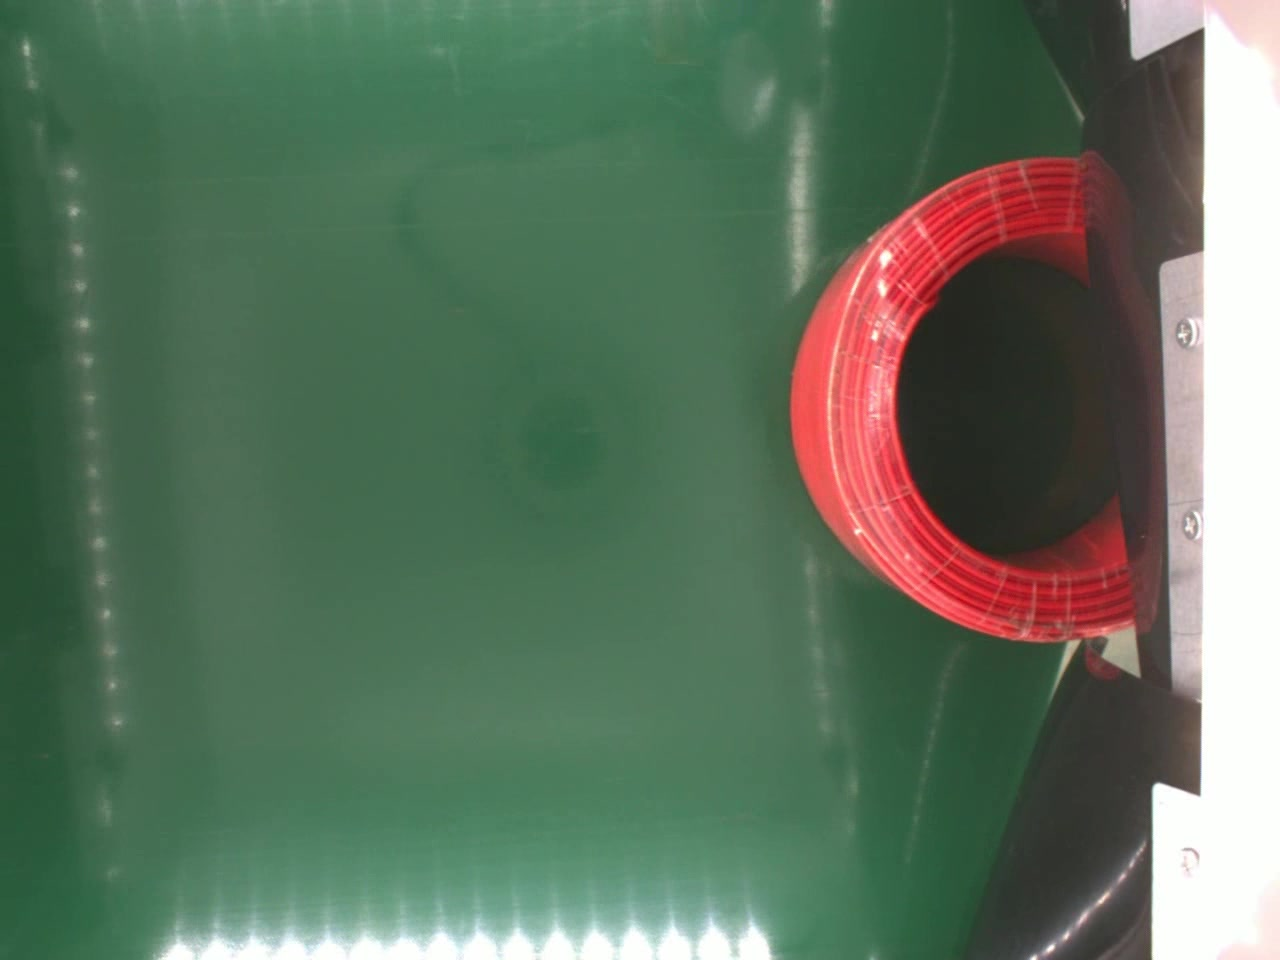red: (786, 153, 1140, 646)
